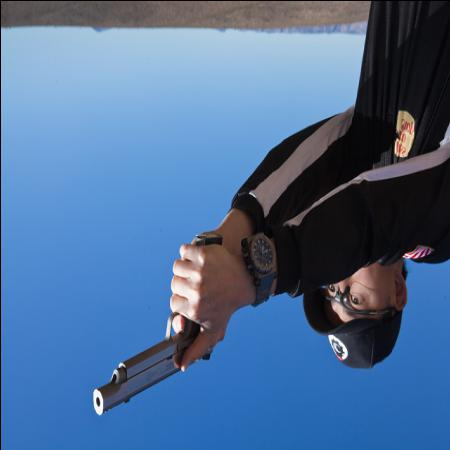Pistol: (88, 228, 232, 424)
